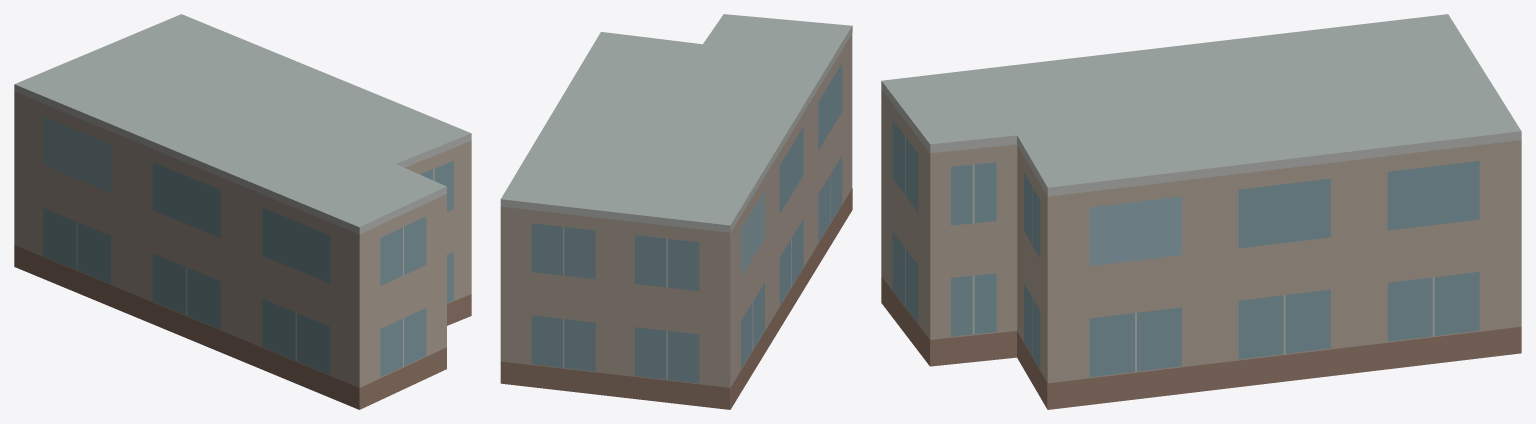
File: survey-upis-32585121.glb
The picture shows the model from 3 angles, left to right: view 1: azimuth 30°, elevation 25°; view 2: azimuth 150°, elevation 25°; view 3: azimuth 270°, elevation 25°; orthographic projection. The views are drawn at different scales.
Parts seen in each view (by area): view 1: survey-upis-32585121.tmp; view 2: survey-upis-32585121.tmp; view 3: survey-upis-32585121.tmp.
Part boxes in pixels (x1,y1,x2,y2): survey-upis-32585121.tmp: [14, 14, 471, 409]; survey-upis-32585121.tmp: [500, 14, 852, 409]; survey-upis-32585121.tmp: [881, 14, 1521, 409].
Bounding box in the file's own units: 10.25 × 6.1 × 15.95.
